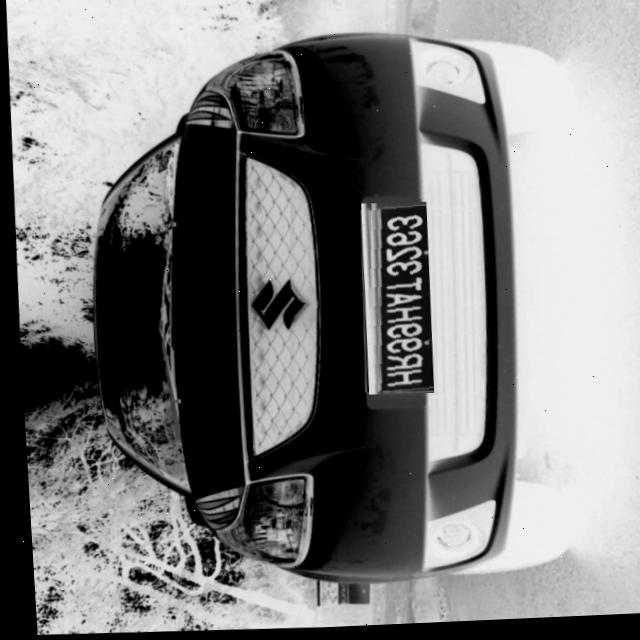Non_registered: (355, 203, 432, 397)
